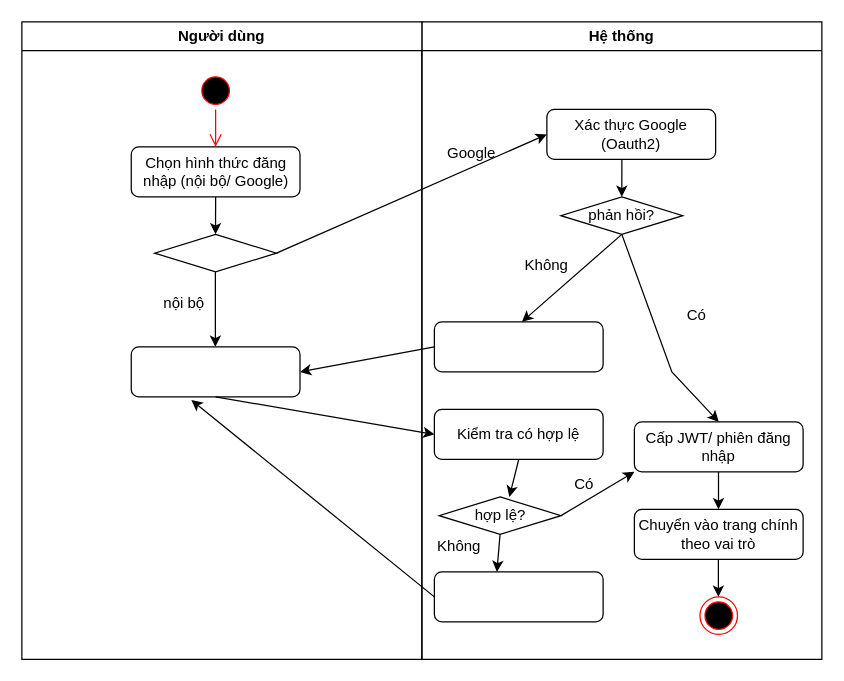
This 844x681 diagram has some shape labels left out. The centre of each missing label's shape, as x and y in pixels:
"Hình thức?" goes at (214,252).
"Nhập username/password" goes at (215,371).
"Thông báo lỗi cho phép đăng nhập nội bộ" goes at (518,346).
"Thông báo lỗi sai" goes at (518,596).
